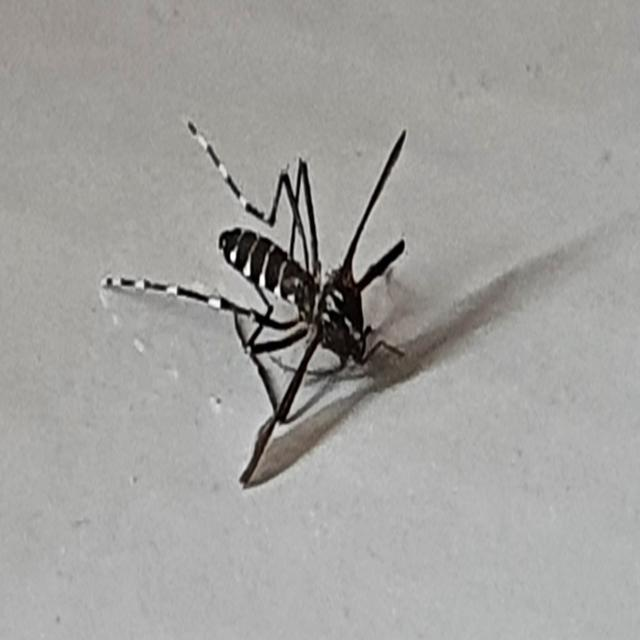albopictus: (110, 78, 430, 498)
